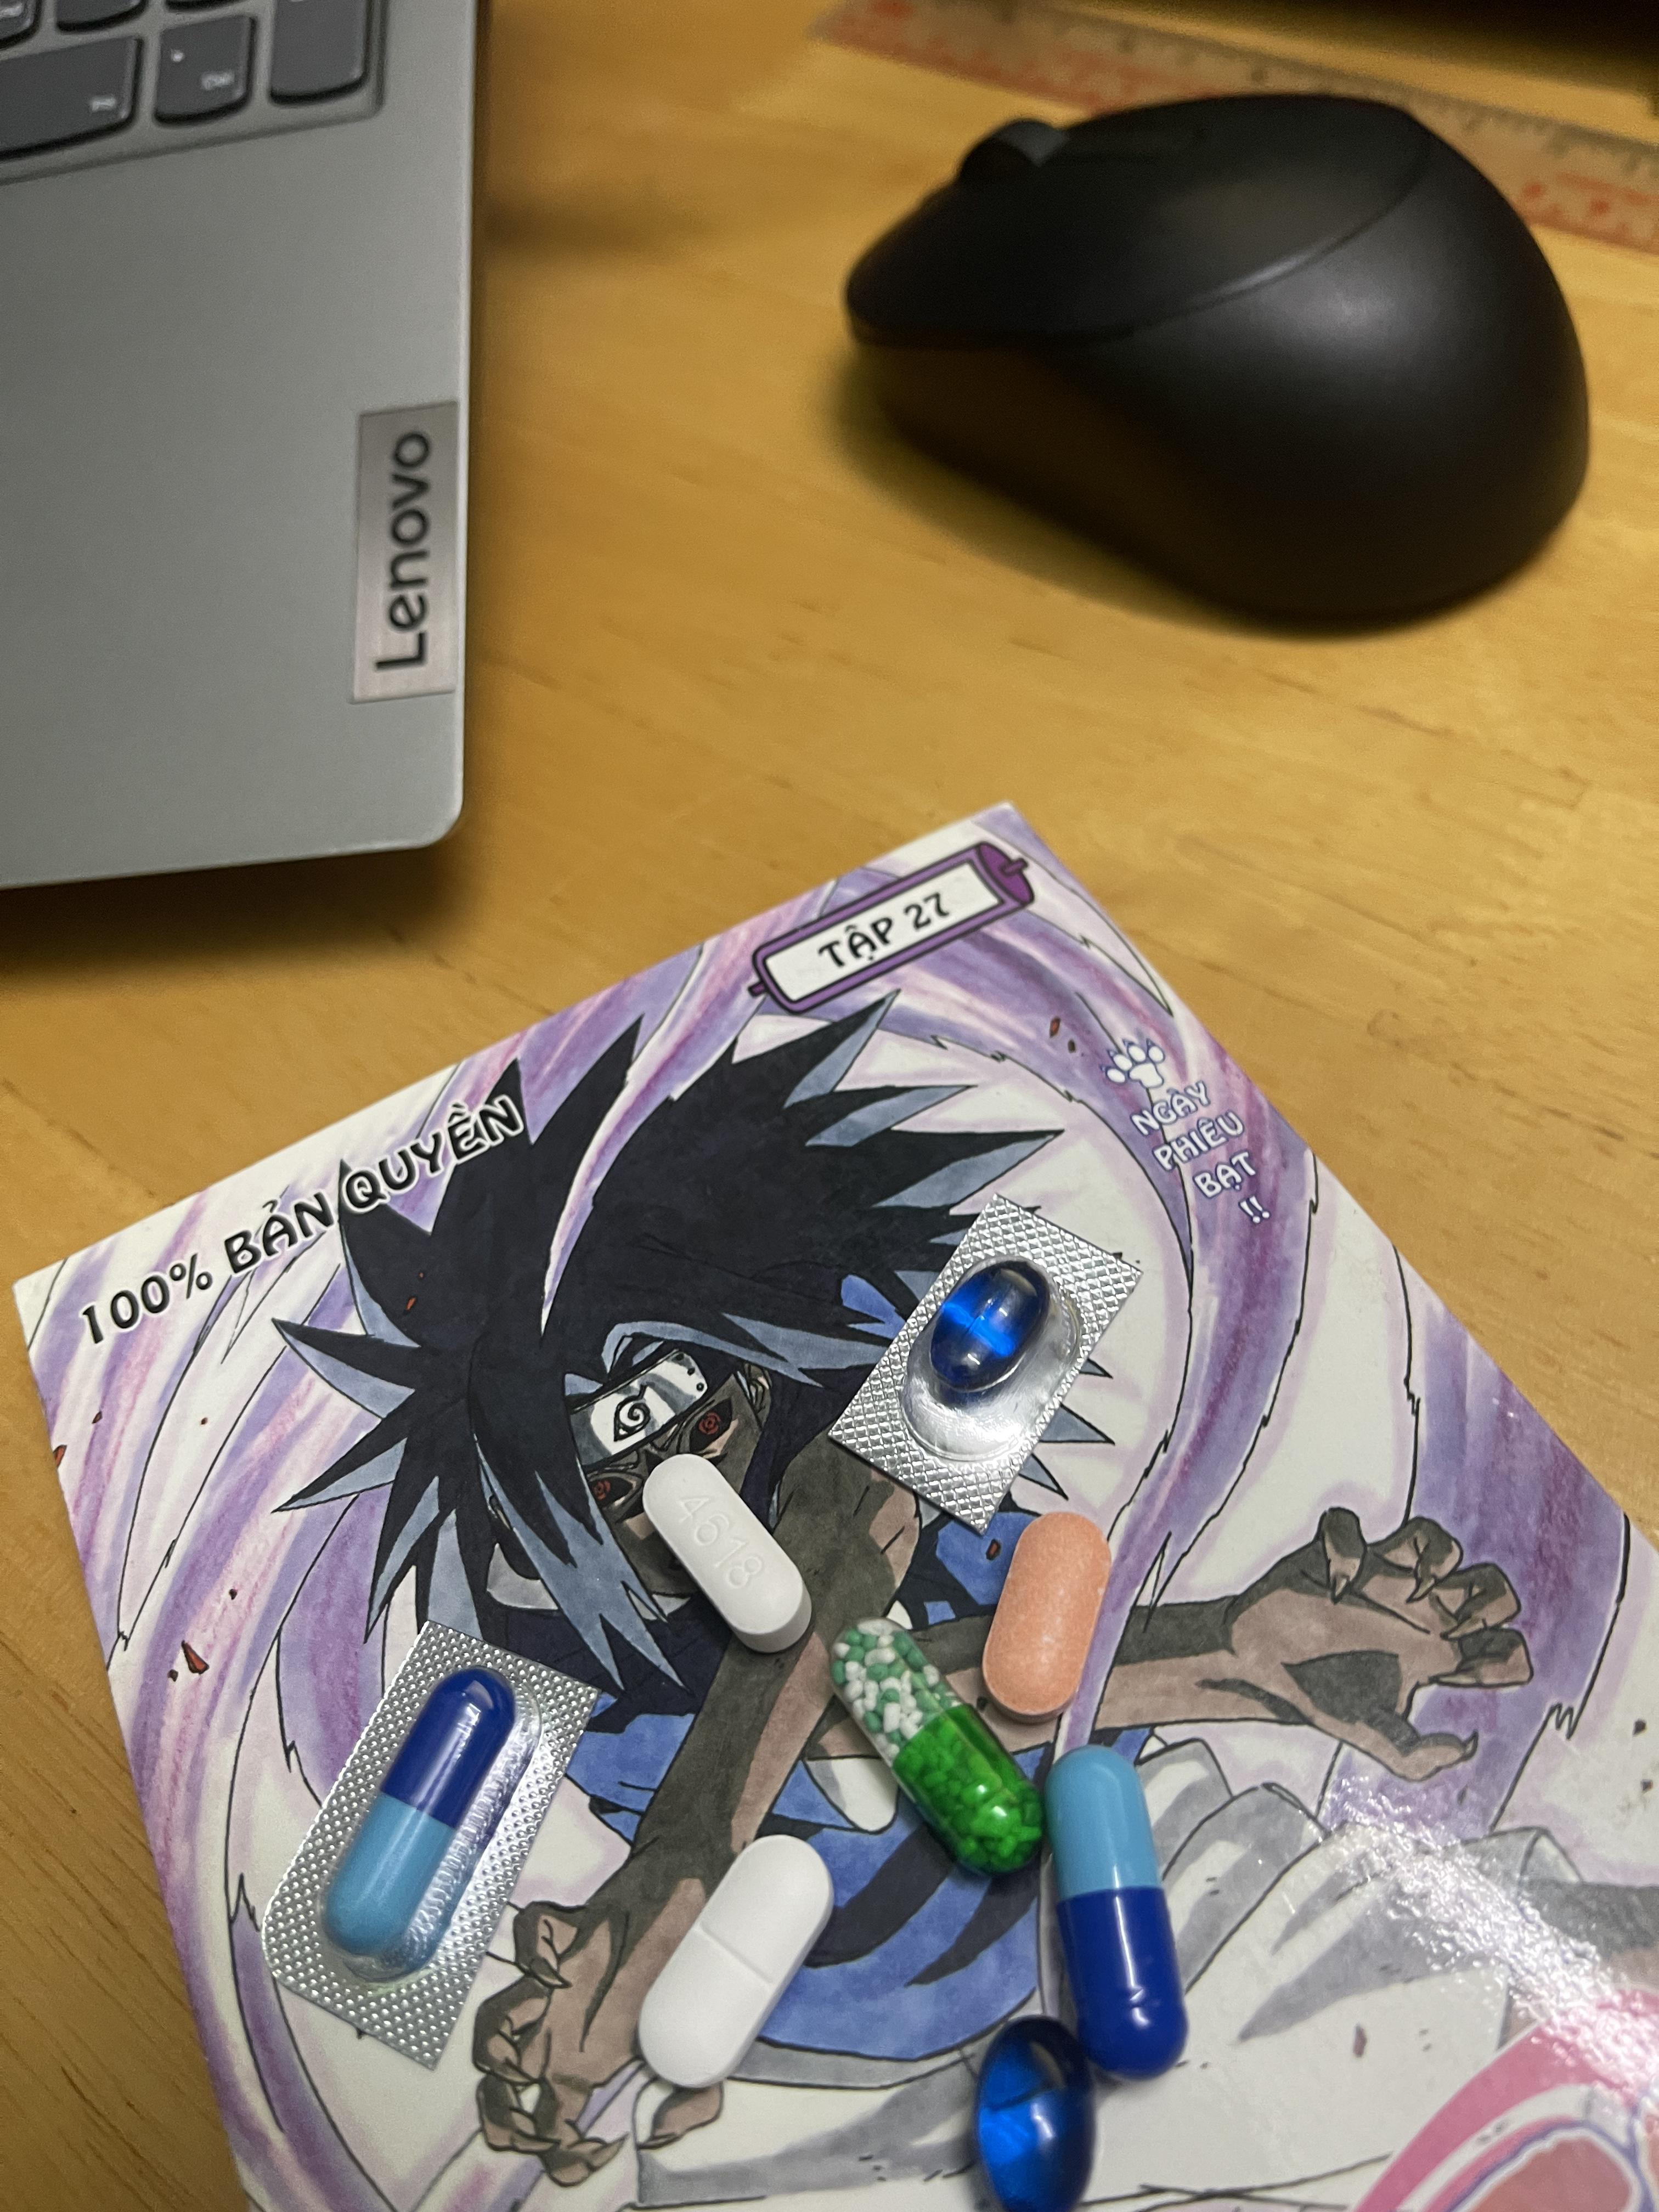Lincomyxin_500mg: (972, 2017, 1096, 2212), (929, 1264, 1044, 1399)
Loratadine_10mg: (985, 1519, 1107, 1707)
Paracetamol_350mg: (634, 1832, 836, 2092)
Paracetamol_500mg: (640, 1453, 809, 1655)
Paracetamol_650mg: (842, 1625, 1040, 1871)
pill: (319, 1681, 521, 1970), (1051, 1747, 1201, 2078)
